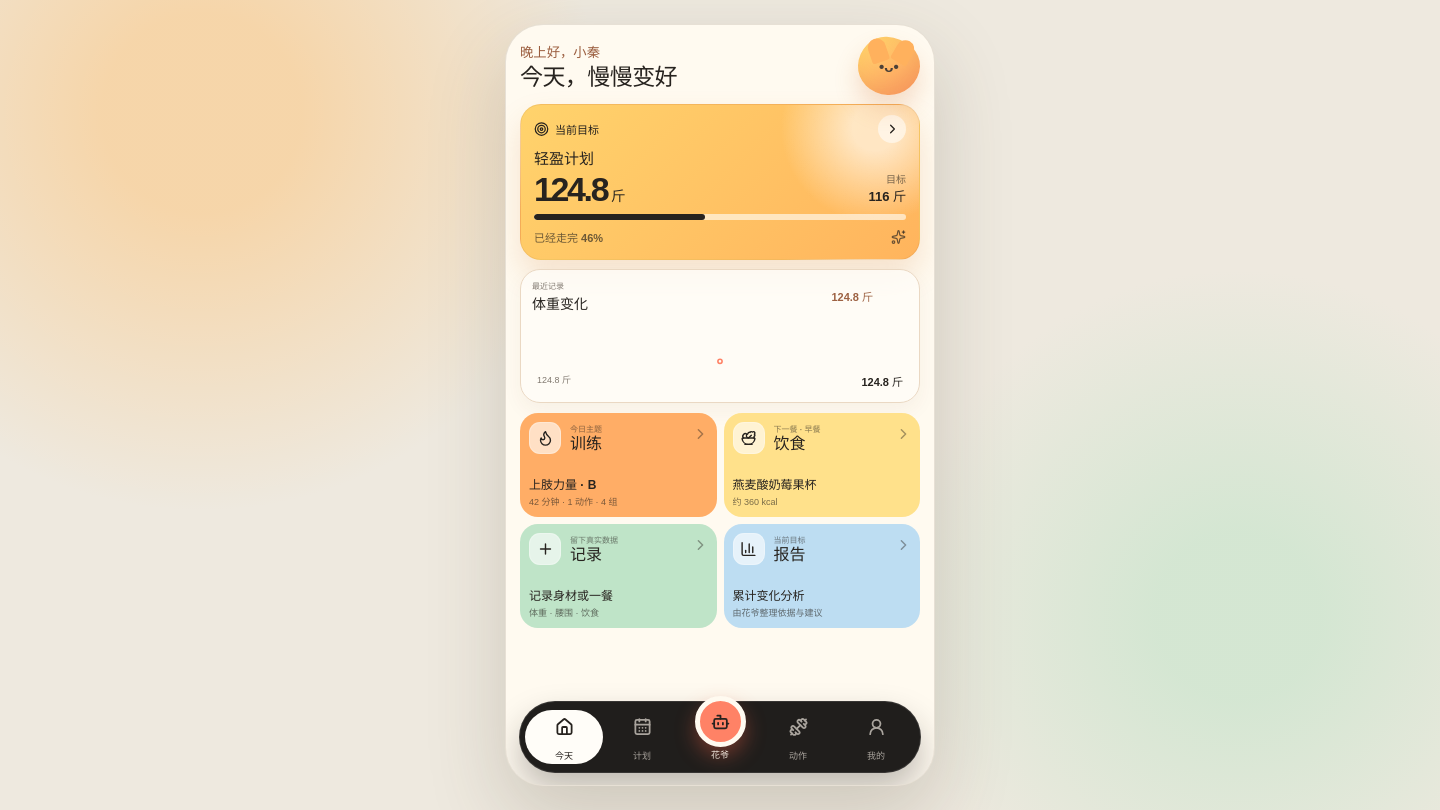
Test: App › submits an AI request when the browser lacks crypto.randomUUID
The image size is (1440, 810).
Expected: the text "124.8" is shown, top-left (534, 170), bottom-right (607, 208)
Click the link "花爷": (720, 728) top-left (694, 696), bottom-right (746, 760)
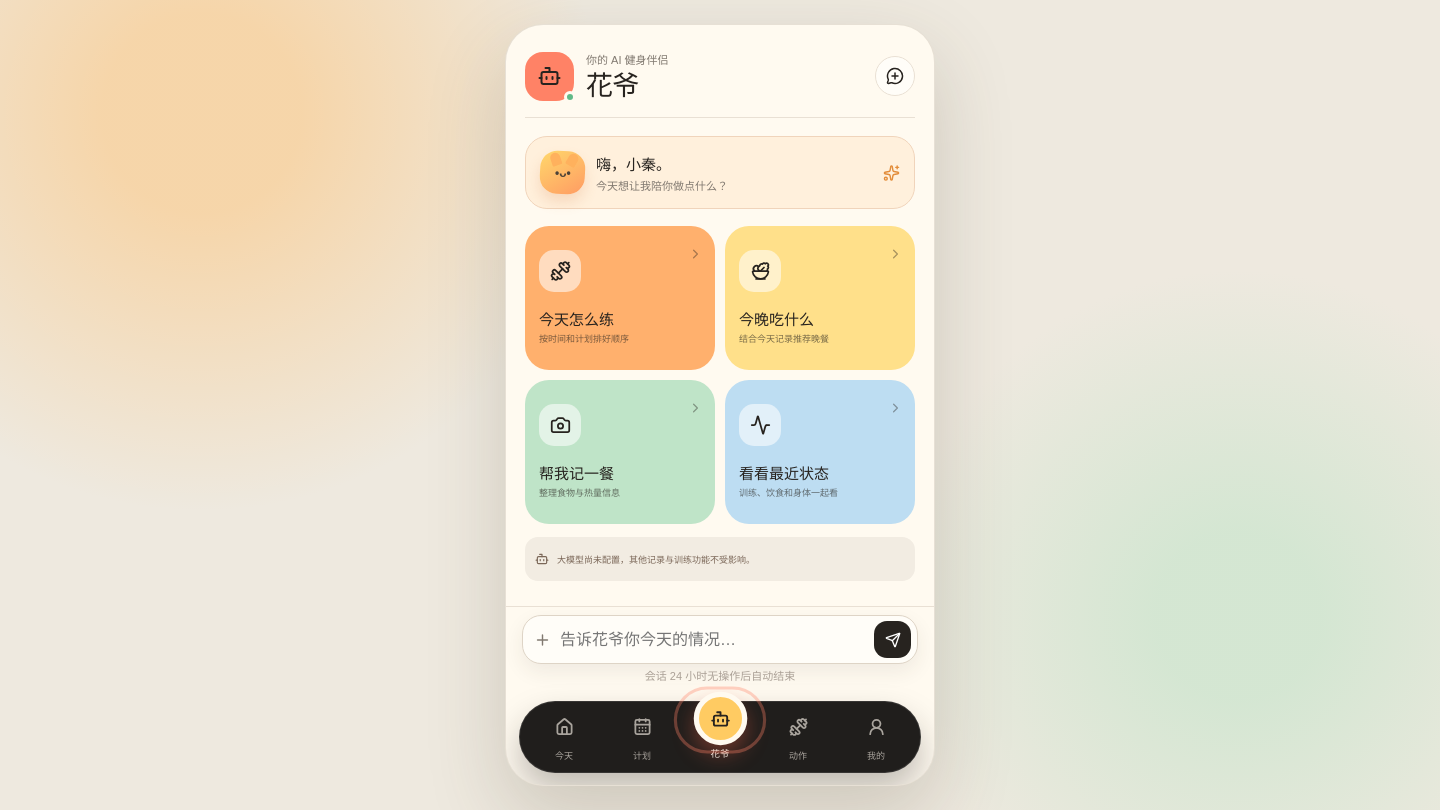
Click the button "今天怎么练 按时间和计划排好顺序": (620, 298) top-left (525, 226), bottom-right (715, 370)
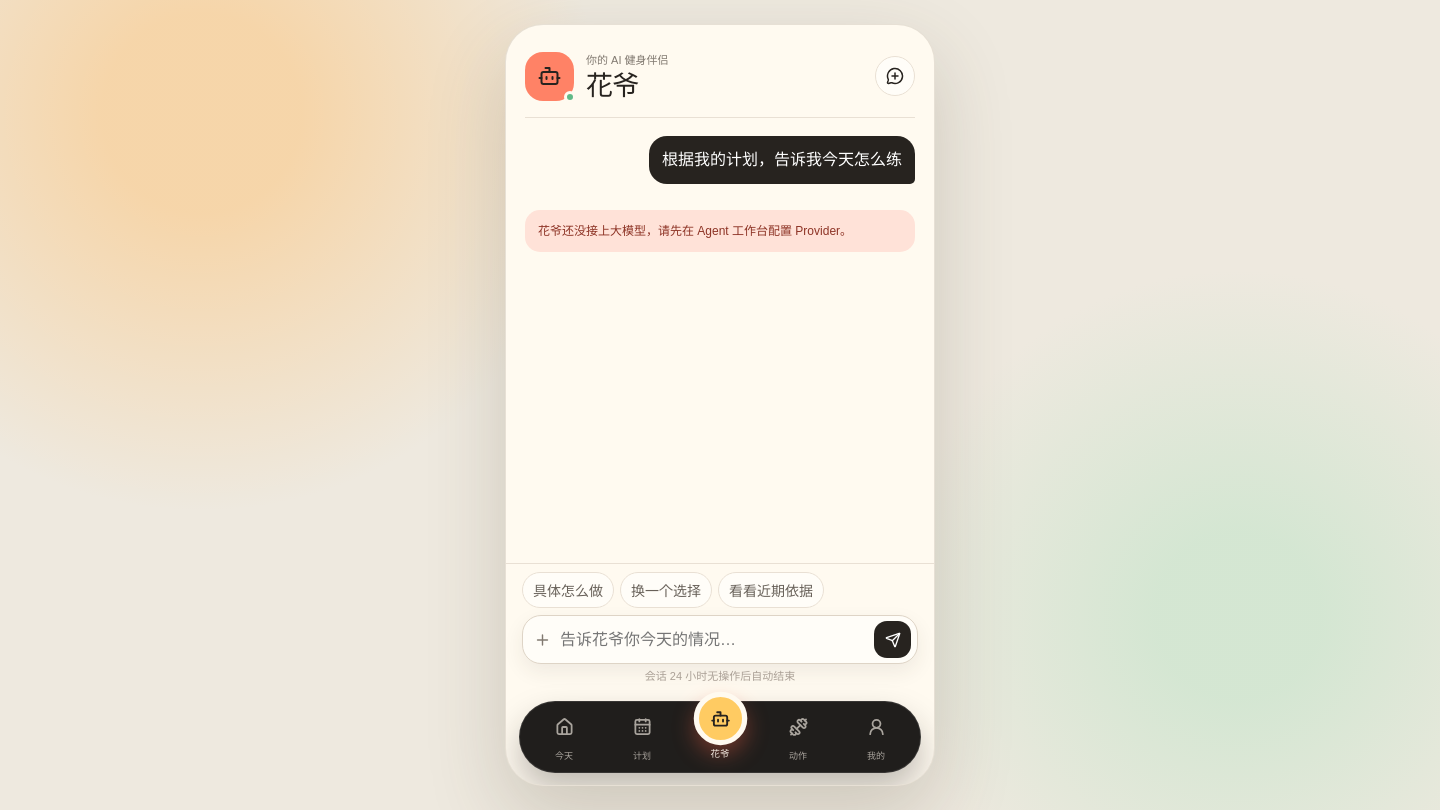
Expected: the text "花爷还没接上大模型，请先在 Agent 工作台配置 Provider。" is shown, top-left (525, 210), bottom-right (915, 252)
